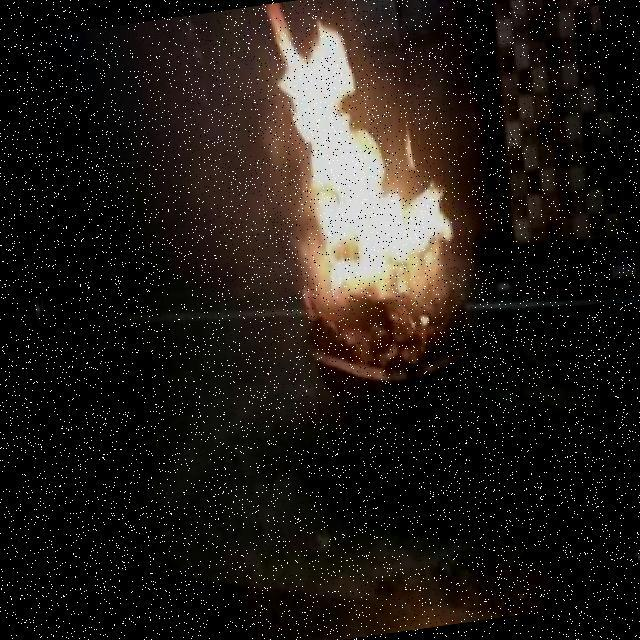Fire: (246, 0, 471, 330)
